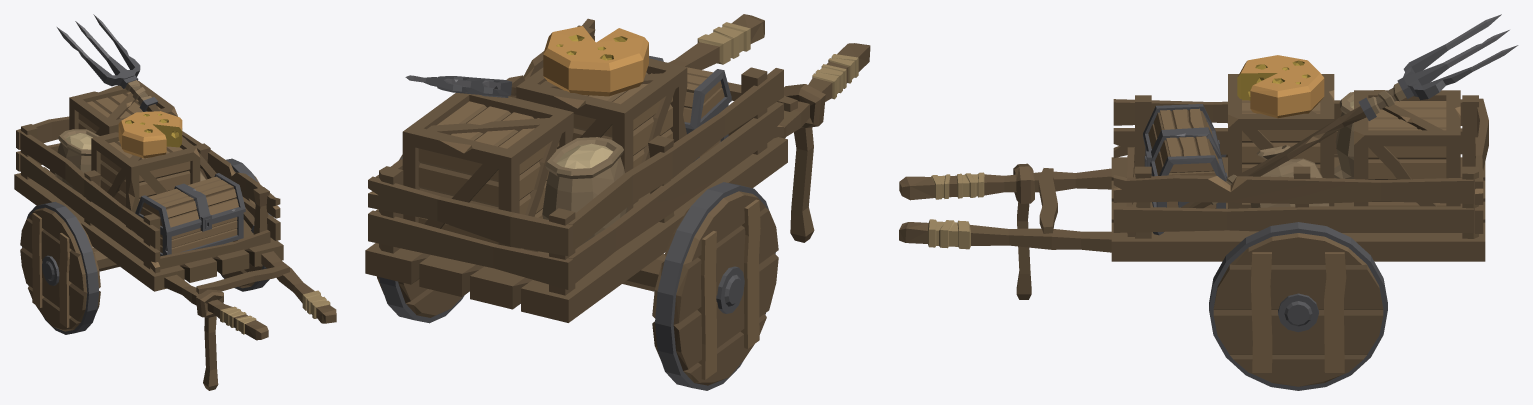
The model's file is SM_Prop_Cart_03.gltf.
The picture shows the model from 3 angles, left to right: view 1: azimuth 30°, elevation 25°; view 2: azimuth 150°, elevation 25°; view 3: azimuth 270°, elevation 25°; orthographic projection. The views are drawn at different scales.
Parts seen in each view (by area): view 1: SM_Prop_Cart_03; view 2: SM_Prop_Cart_03; view 3: SM_Prop_Cart_03.
Part boxes in pixels (x1,y1,x2,y2): SM_Prop_Cart_03: (14, 14, 336, 390); SM_Prop_Cart_03: (365, 14, 870, 390); SM_Prop_Cart_03: (899, 14, 1518, 390).
Bounding box in the file's own units: 1.67 × 1.8 × 3.31.
Materials: 1 (1 with a texture image).
